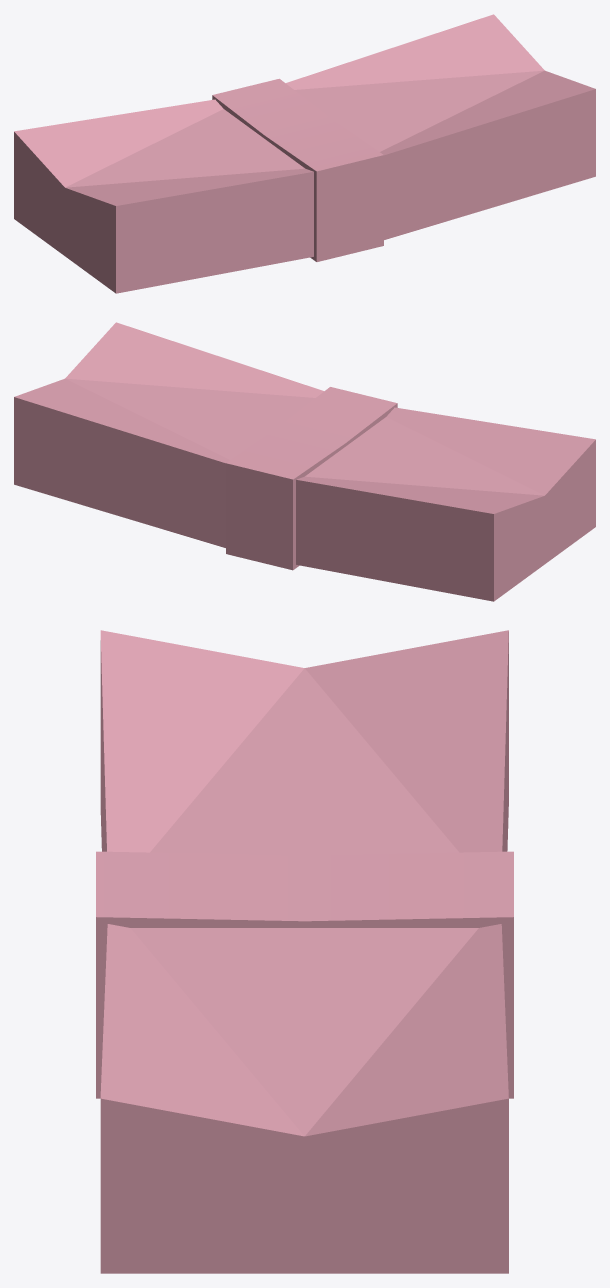
File: Money.fbx
The picture shows the model from 3 angles, top to bottom: view 1: azimuth 30°, elevation 25°; view 2: azimuth 150°, elevation 25°; view 3: azimuth 270°, elevation 25°; orthographic projection. The views are drawn at different scales.
Parts seen in each view (by area): view 1: Money; view 2: Money; view 3: Money.
Boxes of the visible parts, x1,y1,x2,y2 form: Money: (14,14,595,293); Money: (14,322,595,601); Money: (96,630,513,1273).
Size of the model in its own units: 27.35 by 5.67 by 10.31.
